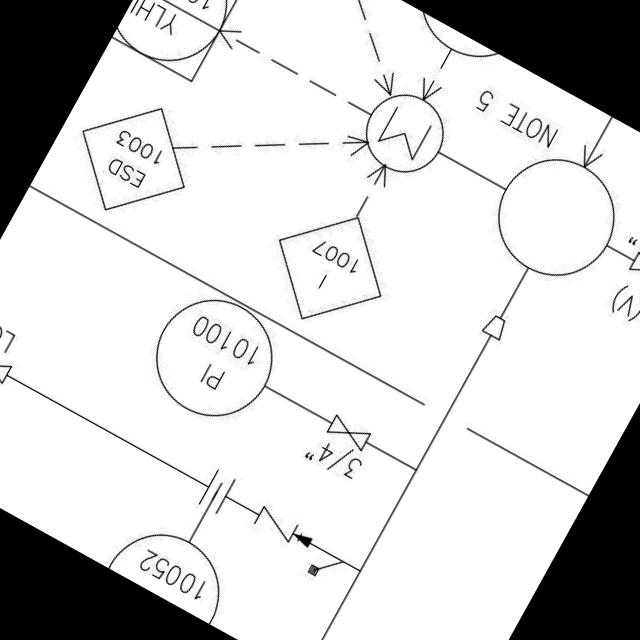GV: (320, 406, 378, 456), (620, 244, 640, 293), (0, 339, 18, 391)
M: (348, 74, 464, 190)
SP: (476, 306, 514, 346)
